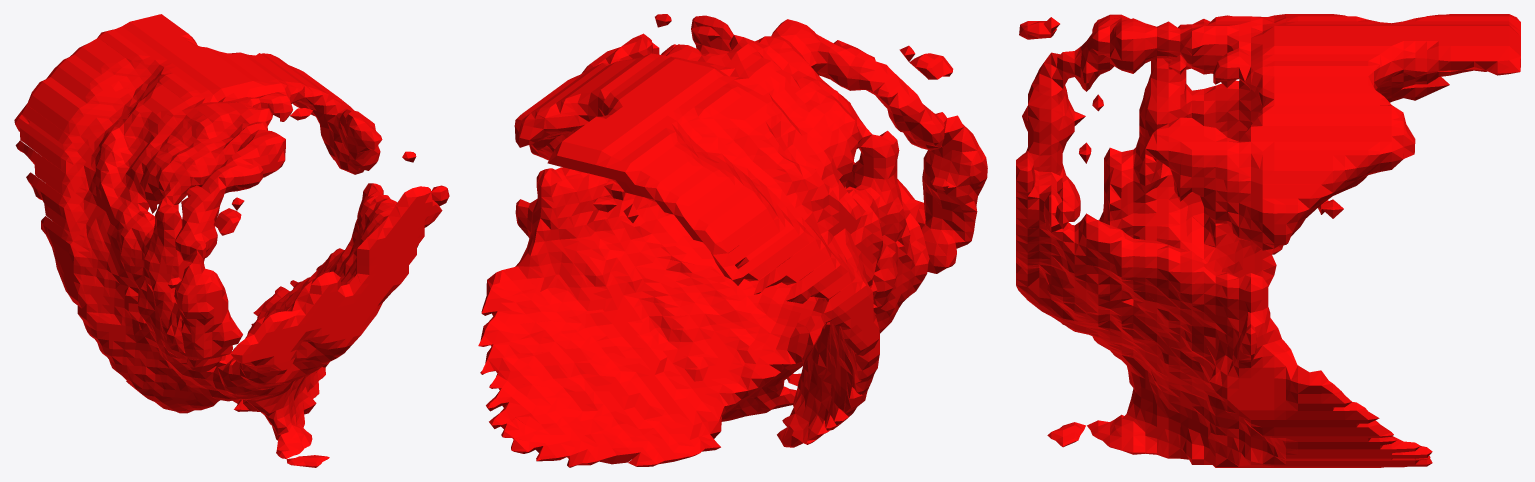
File: B939XXXX-1_valve_40.obj
The picture shows the model from 3 angles, left to right: view 1: azimuth 30°, elevation 25°; view 2: azimuth 150°, elevation 25°; view 3: azimuth 270°, elevation 25°; orthographic projection. The views are drawn at different scales.
Parts seen in each view (by area): view 1: 40_valve; view 2: 40_valve; view 3: 40_valve.
Boxes of the visible parts, x1,y1,x2,y2 form: 40_valve: (14, 14, 449, 467); 40_valve: (478, 14, 987, 467); 40_valve: (1016, 14, 1520, 467).
Size of the model in its own units: 77.98 by 76.97 by 85.95.
